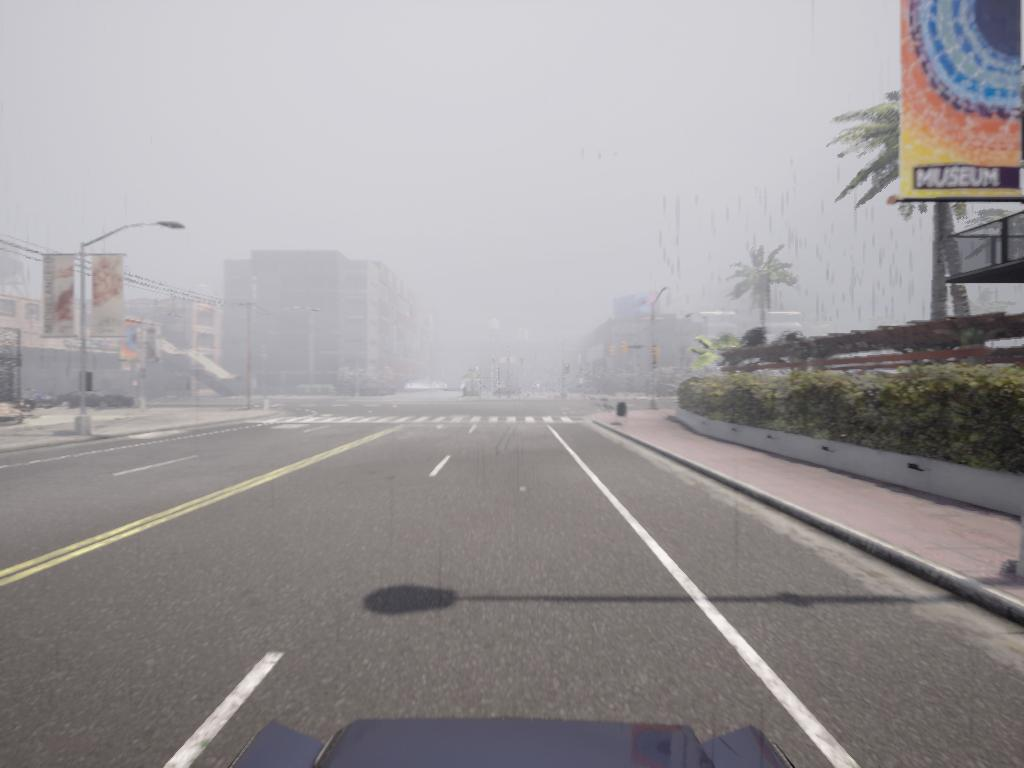traffic_light: (565, 363, 571, 377)
